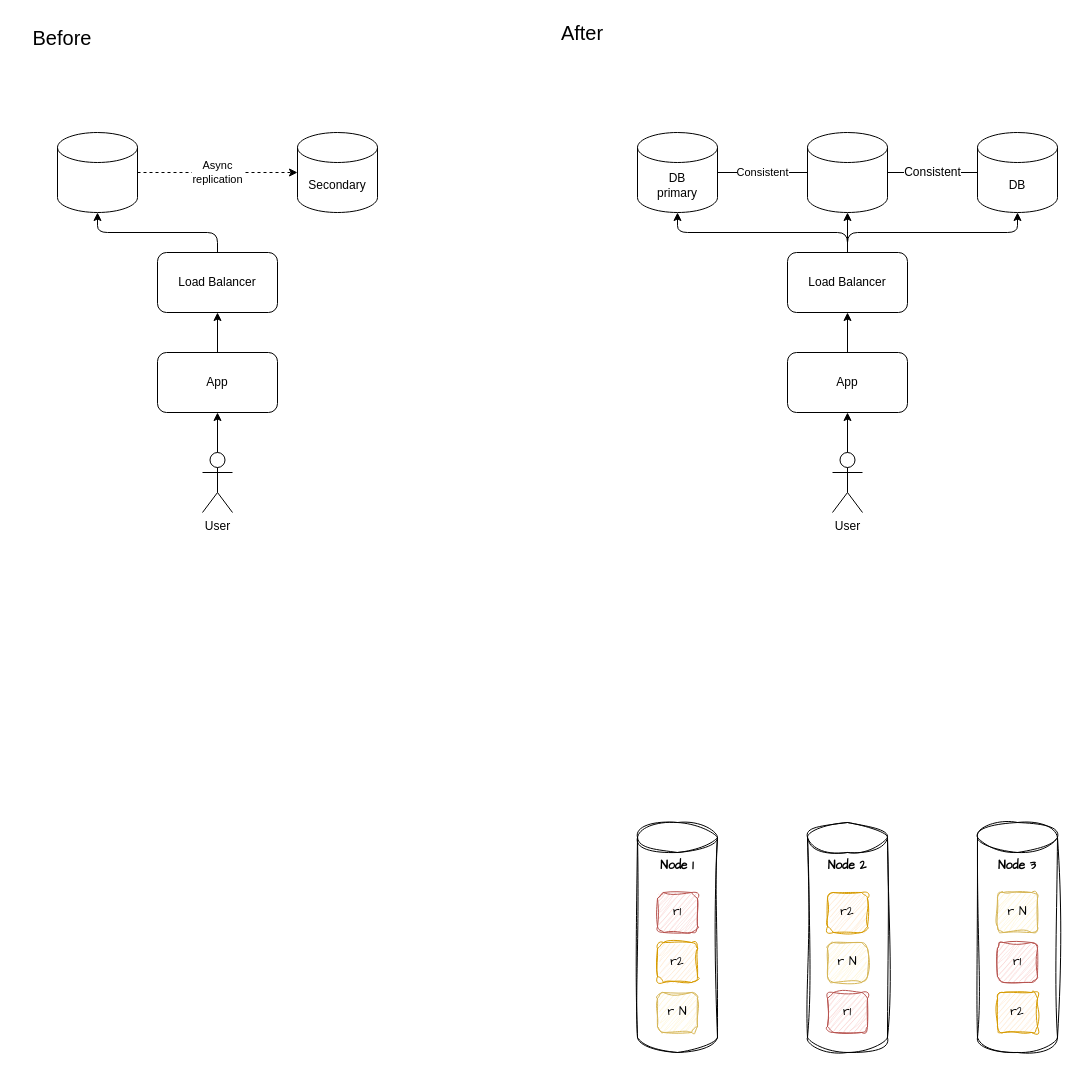
Some shapes in this 1075 by 1070 pixel diagram are drawn without their labels. Here are the shapes that lost their labels. From the top down, the centre of each, then its label:
At point 97,172: "Primary".
At point 847,172: "DB secondary".
